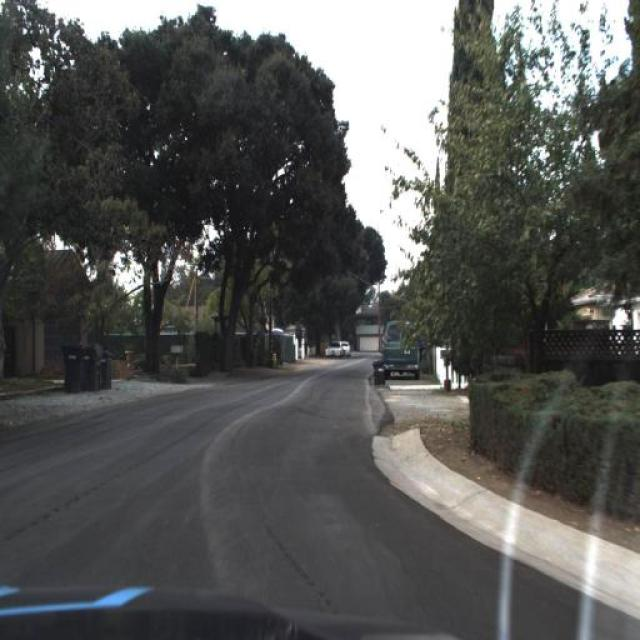car: (380, 312, 419, 383), (381, 318, 423, 378), (322, 336, 342, 359)
